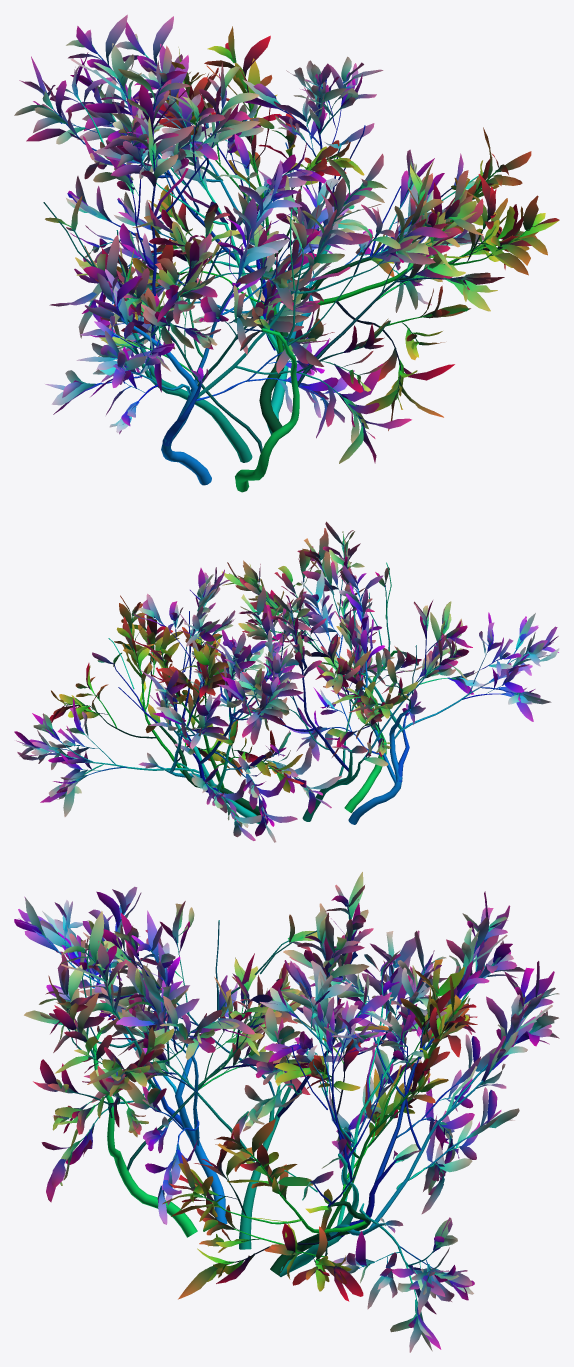
Rendered from Downy_Willow_wknlfiuqx_Mid_wknlfiuqx_VarI_LOD0.fbx.
3 renders of one model, top to bottom at view 1: azimuth 30°, elevation 25°; view 2: azimuth 150°, elevation 25°; view 3: azimuth 270°, elevation 25°, orthographic. The views are drawn at different scales.
Parts seen in each view (by area): view 1: _as3e_VarI_LOD1; view 2: _as3e_VarI_LOD1; view 3: _as3e_VarI_LOD1.
Boxes of the visible parts, x1=… form: _as3e_VarI_LOD1: x1=14, y1=14, x2=559, y2=492; _as3e_VarI_LOD1: x1=14, y1=521, x2=559, y2=842; _as3e_VarI_LOD1: x1=14, y1=872, x2=559, y2=1352.
Size of the model in its own units: 155 by 94.72 by 130.
